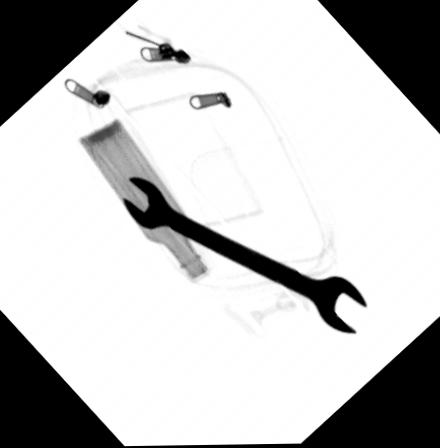Wrench: (122, 175, 370, 338)
